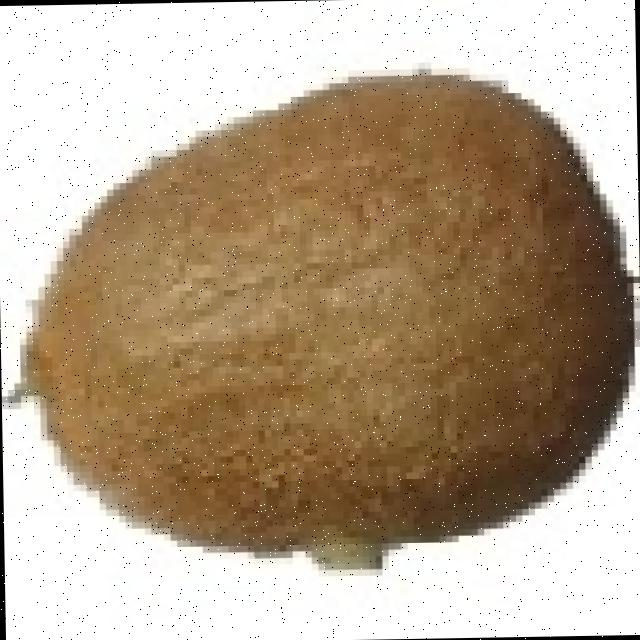kiwi: (19, 68, 620, 550)
